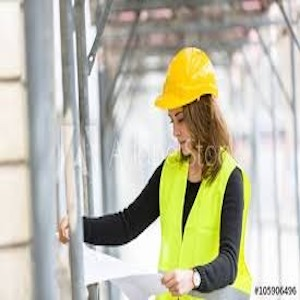safety: (152, 48, 220, 112)
vest: (159, 155, 255, 297)
